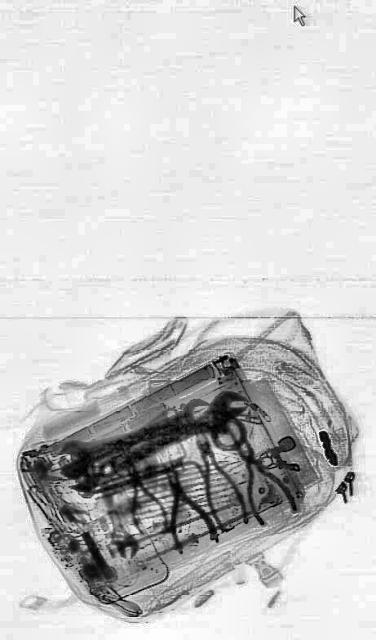Pliers: (219, 402, 299, 544), (150, 448, 218, 568), (186, 416, 250, 542), (120, 457, 170, 548)
Wrench: (95, 381, 251, 491), (55, 392, 211, 482), (92, 465, 140, 565)
